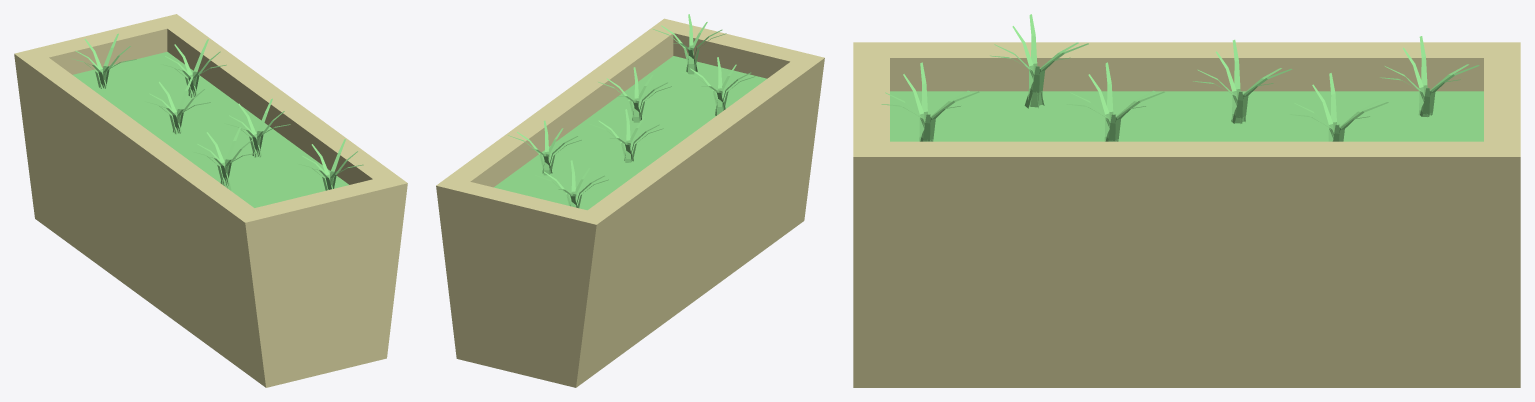
The model's file is plantern.fbx.
The picture shows the model from 3 angles, left to right: view 1: azimuth 30°, elevation 25°; view 2: azimuth 150°, elevation 25°; view 3: azimuth 270°, elevation 25°; orthographic projection. The views are drawn at different scales.
Visible parts, largest first — view 1: Cube.001, Plane.009, Plane.010, Plane.011, Plane.012, Plane.013, Plane.008; view 2: Cube.001, Plane.008, Plane.009, Plane.010, Plane.012, Plane.011, Plane.013; view 3: Cube.001, Plane.009, Plane.011, Plane.013, Plane.008, Plane.010, Plane.012.
Part boxes in pixels (bbox=[...]): Cube.001: bbox=[14, 14, 407, 387]; Plane.009: bbox=[193, 127, 258, 190]; Plane.010: bbox=[224, 98, 290, 157]; Plane.011: bbox=[145, 77, 210, 133]; Plane.012: bbox=[161, 39, 226, 97]; Plane.013: bbox=[71, 33, 136, 88]; Plane.008: bbox=[298, 139, 363, 190]; Cube.001: bbox=[436, 18, 824, 387]; Plane.008: bbox=[653, 14, 726, 74]; Plane.009: bbox=[682, 57, 755, 115]; Plane.010: bbox=[598, 67, 671, 122]; Plane.012: bbox=[508, 120, 581, 175]; Plane.011: bbox=[589, 109, 663, 162]; Plane.013: bbox=[535, 160, 608, 208]; Cube.001: bbox=[853, 42, 1520, 387]; Plane.009: bbox=[990, 14, 1088, 108]; Plane.011: bbox=[1193, 39, 1292, 123]; Plane.013: bbox=[1380, 36, 1479, 117]; Plane.008: bbox=[881, 62, 979, 141]; Plane.010: bbox=[1066, 62, 1164, 141]; Plane.012: bbox=[1290, 73, 1388, 141].
Size of the model in its own units: 200 by 228 by 492.
